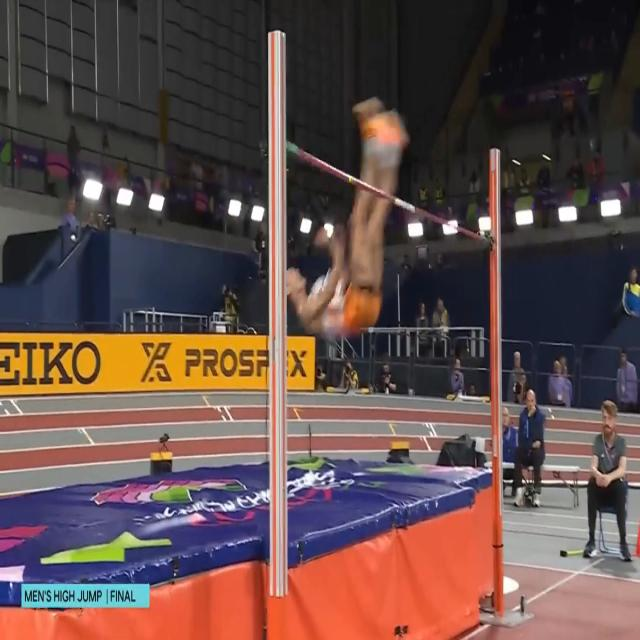land: (286, 97, 408, 340)
